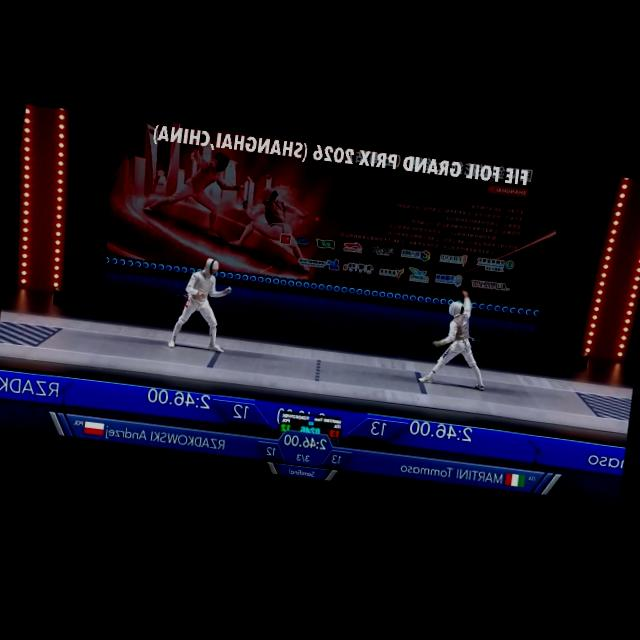blade: (222, 260, 272, 298), (397, 334, 438, 364)
